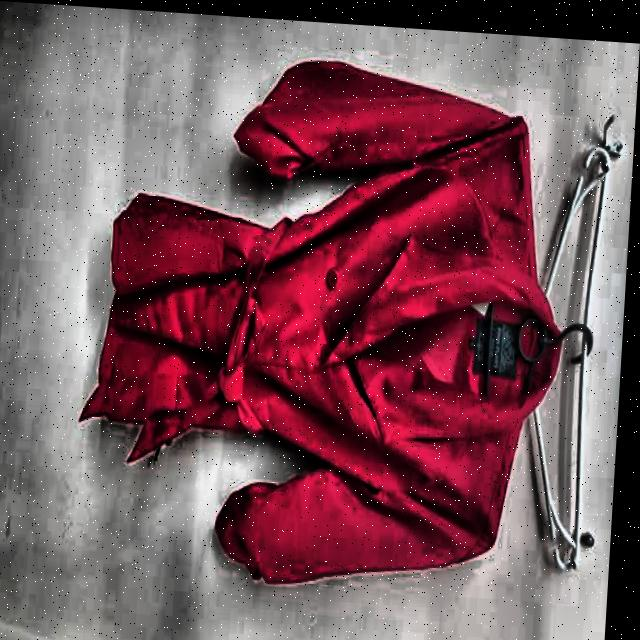clothes: (66, 47, 577, 609)
